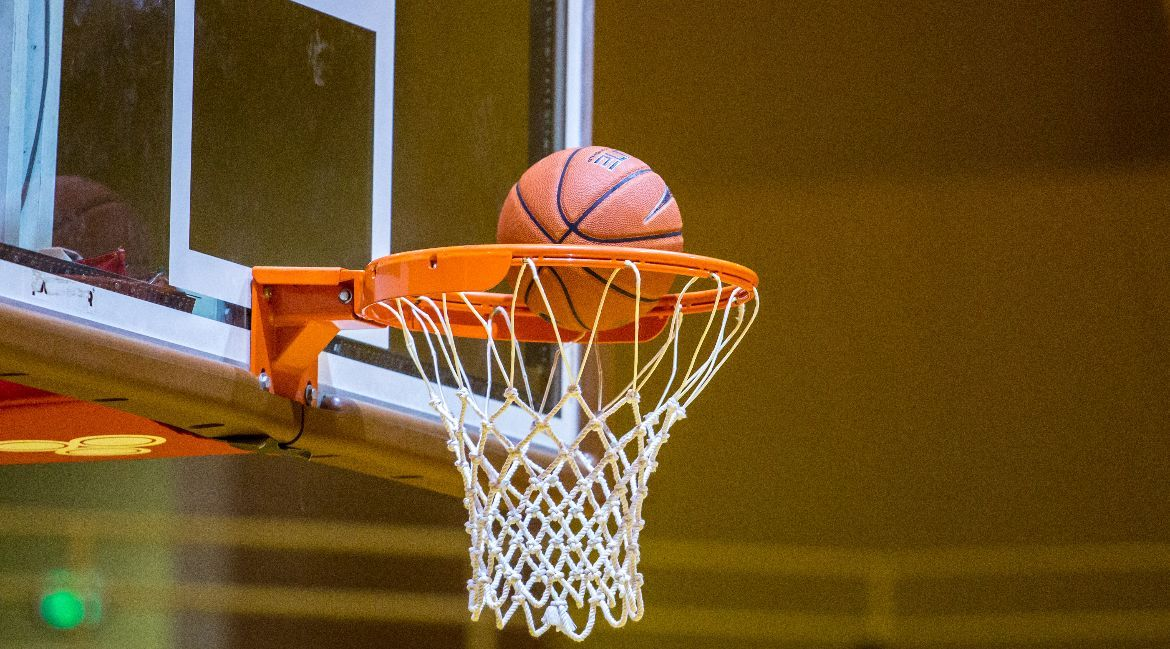MadeBasket: (357, 145, 761, 641)
